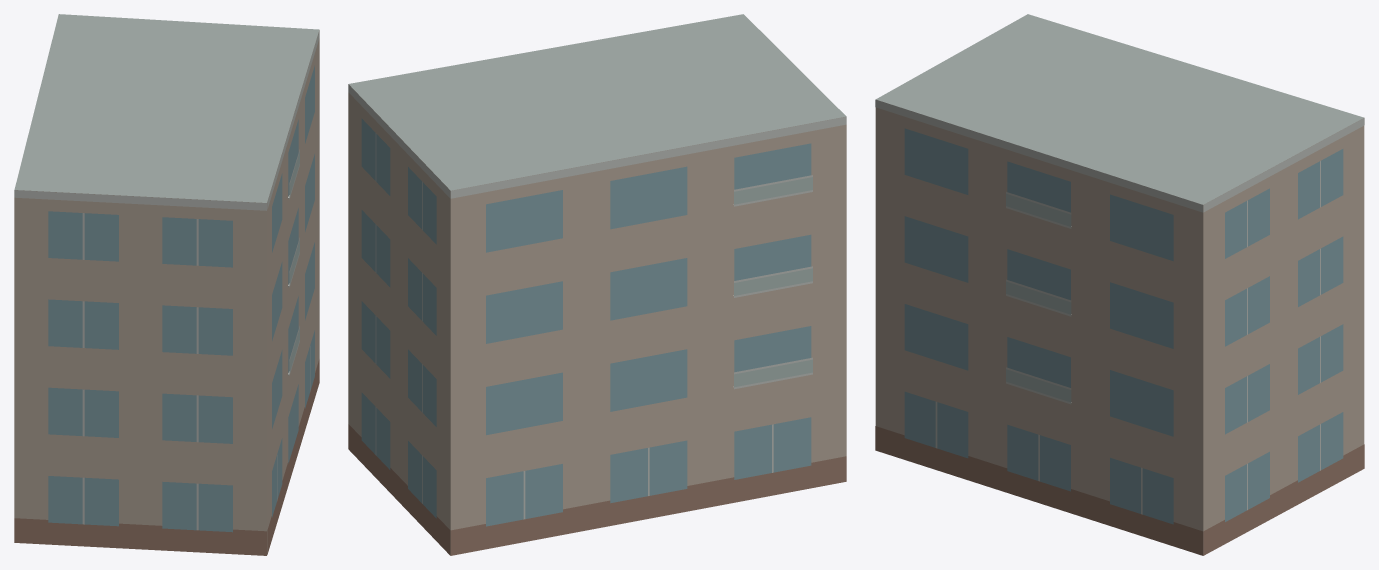
File: survey-upis-32630891.glb
3 renders of one model, left to right at view 1: azimuth 30°, elevation 25°; view 2: azimuth 150°, elevation 25°; view 3: azimuth 270°, elevation 25°, orthographic. The views are drawn at different scales.
Parts seen in each view (by area): view 1: survey-upis-32630891.tmp; view 2: survey-upis-32630891.tmp; view 3: survey-upis-32630891.tmp.
Boxes of the visible parts, left/top/right/bottom form: survey-upis-32630891.tmp: left=14, top=14, right=319, bottom=555; survey-upis-32630891.tmp: left=348, top=14, right=846, bottom=555; survey-upis-32630891.tmp: left=875, top=14, right=1364, bottom=555.
Bounding box in the file's own units: 12.84 × 11 × 13.89.
